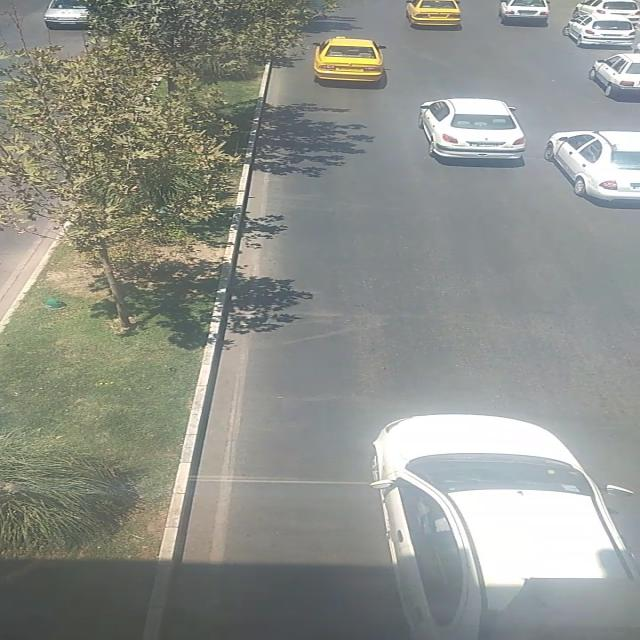car: (364, 414, 640, 618), (546, 130, 640, 202), (420, 100, 526, 158), (311, 40, 386, 84), (564, 15, 636, 49), (588, 53, 640, 97), (405, 1, 465, 27), (496, 0, 554, 26), (573, 0, 640, 20), (44, 1, 92, 27)
